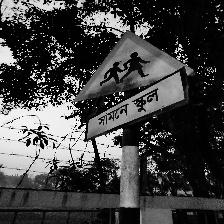School-in-front: (72, 31, 194, 143)
